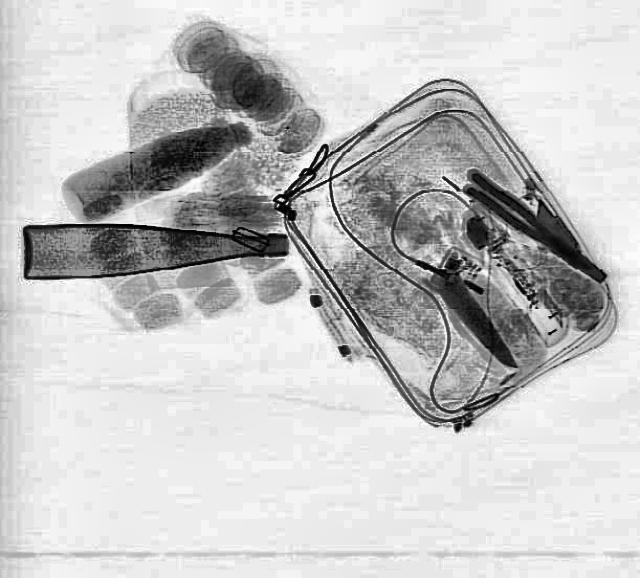Pliers: (456, 169, 614, 287)
